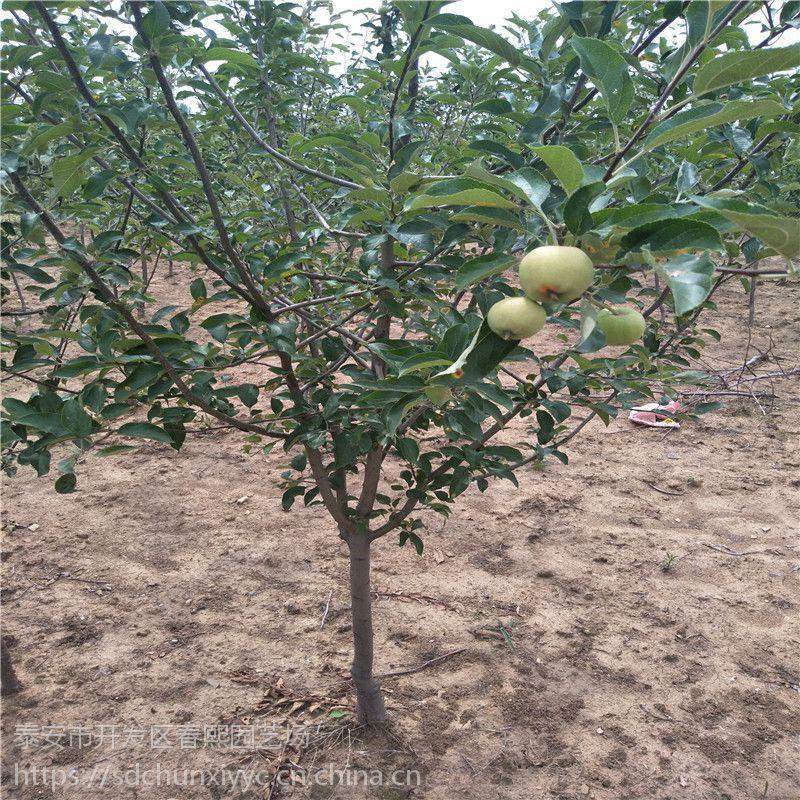apple: (516, 242, 593, 310), (488, 296, 548, 343), (594, 304, 646, 345)
